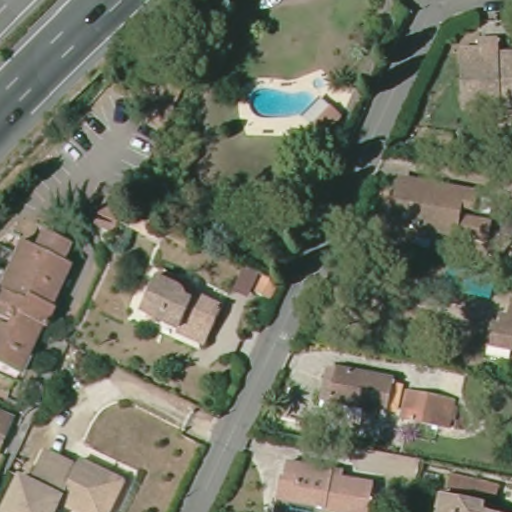pool: (244, 77, 331, 125)
